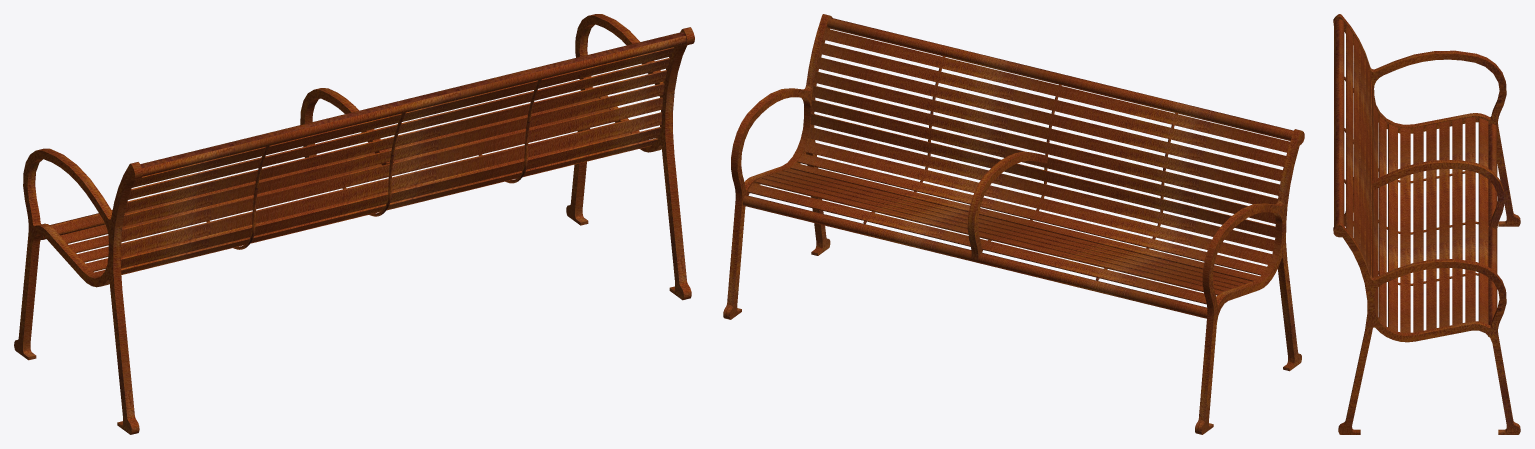
The picture shows the model from 3 angles, left to right: view 1: azimuth 30°, elevation 25°; view 2: azimuth 150°, elevation 25°; view 3: azimuth 270°, elevation 25°; orthographic projection. The views are drawn at different scales.
Visible parts, largest first — view 1: mesh1_mesh1-geometry, mesh12_mesh12-geometry, mesh3_mesh3-geometry, mesh8_mesh8-geometry, mesh6_mesh6-geometry; view 2: mesh1_mesh1-geometry, mesh12_mesh12-geometry, mesh3_mesh3-geometry, mesh6_mesh6-geometry; view 3: mesh1_mesh1-geometry, mesh12_mesh12-geometry, mesh3_mesh3-geometry, mesh6_mesh6-geometry, mesh8_mesh8-geometry.
Boxes of the visible parts, left/top/right/bottom form: mesh1_mesh1-geometry: left=50, top=47, right=674, bottom=275; mesh12_mesh12-geometry: left=14, top=14, right=694, bottom=434; mesh3_mesh3-geometry: left=40, top=32, right=686, bottom=239; mesh8_mesh8-geometry: left=206, top=79, right=541, bottom=249; mesh6_mesh6-geometry: left=300, top=88, right=393, bottom=165; mesh1_mesh1-geometry: left=747, top=28, right=1289, bottom=304; mesh12_mesh12-geometry: left=723, top=14, right=1304, bottom=434; mesh3_mesh3-geometry: left=742, top=18, right=1293, bottom=318; mesh6_mesh6-geometry: left=967, top=151, right=1047, bottom=259; mesh1_mesh1-geometry: left=1346, top=26, right=1488, bottom=332; mesh12_mesh12-geometry: left=1333, top=14, right=1520, bottom=434; mesh3_mesh3-geometry: left=1334, top=19, right=1497, bottom=337; mesh6_mesh6-geometry: left=1371, top=159, right=1504, bottom=231; mesh8_mesh8-geometry: left=1344, top=76, right=1488, bottom=285.
Bounding box in the file's own units: 0.8591 × 0.398 × 0.3216.
